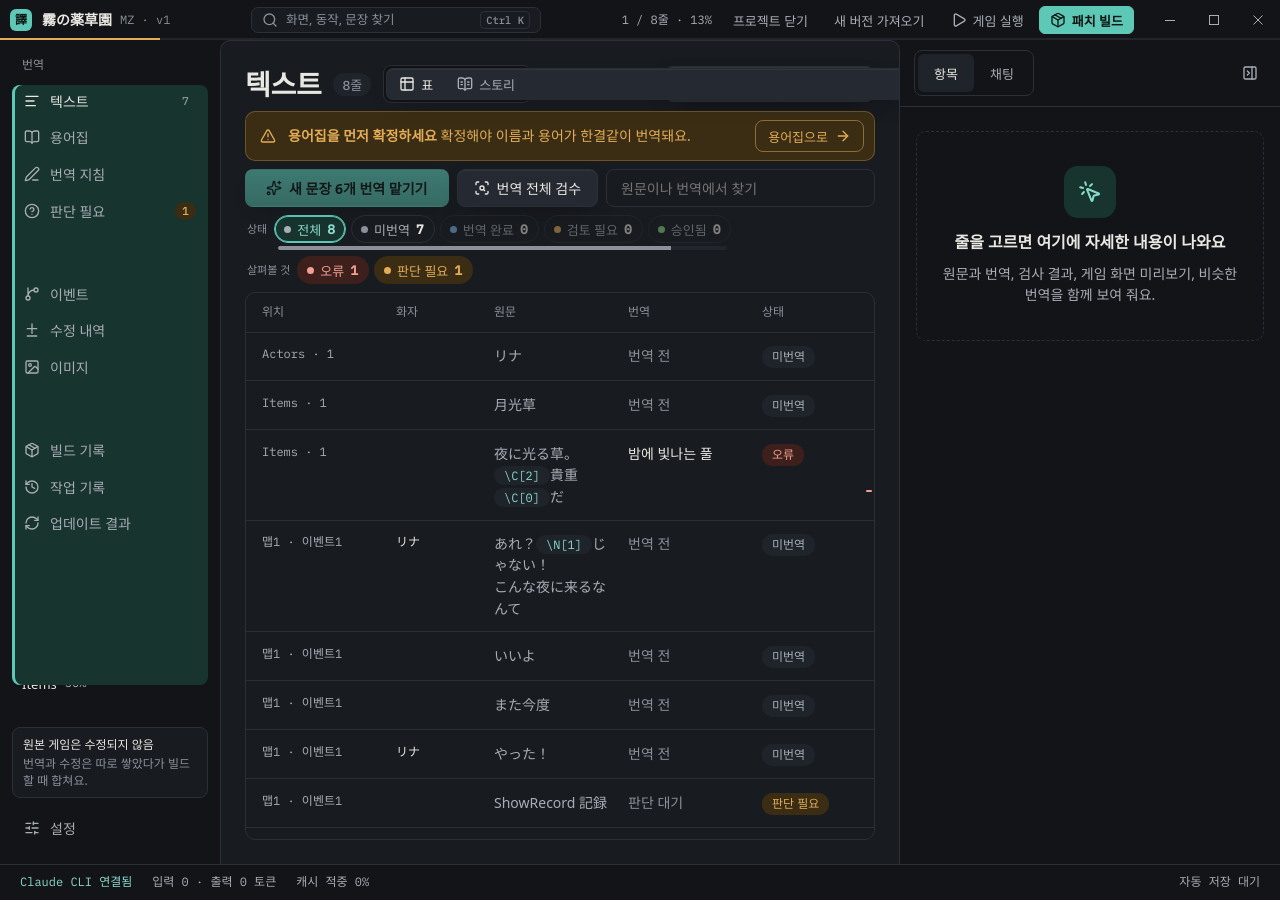
Test case: 폴더를 고르면 확인하고 버전 이름을 채운 뒤 가져온다
This screenshot has width=1280, height=900.
Expected: the text "霧の薬草園" is shown, [42,9,112,31]
What coordinates should you click on to do the following:
click the button "새 버전 가져오기"
I would click on:
 (879, 20)
Its box is [823,6,936,34].
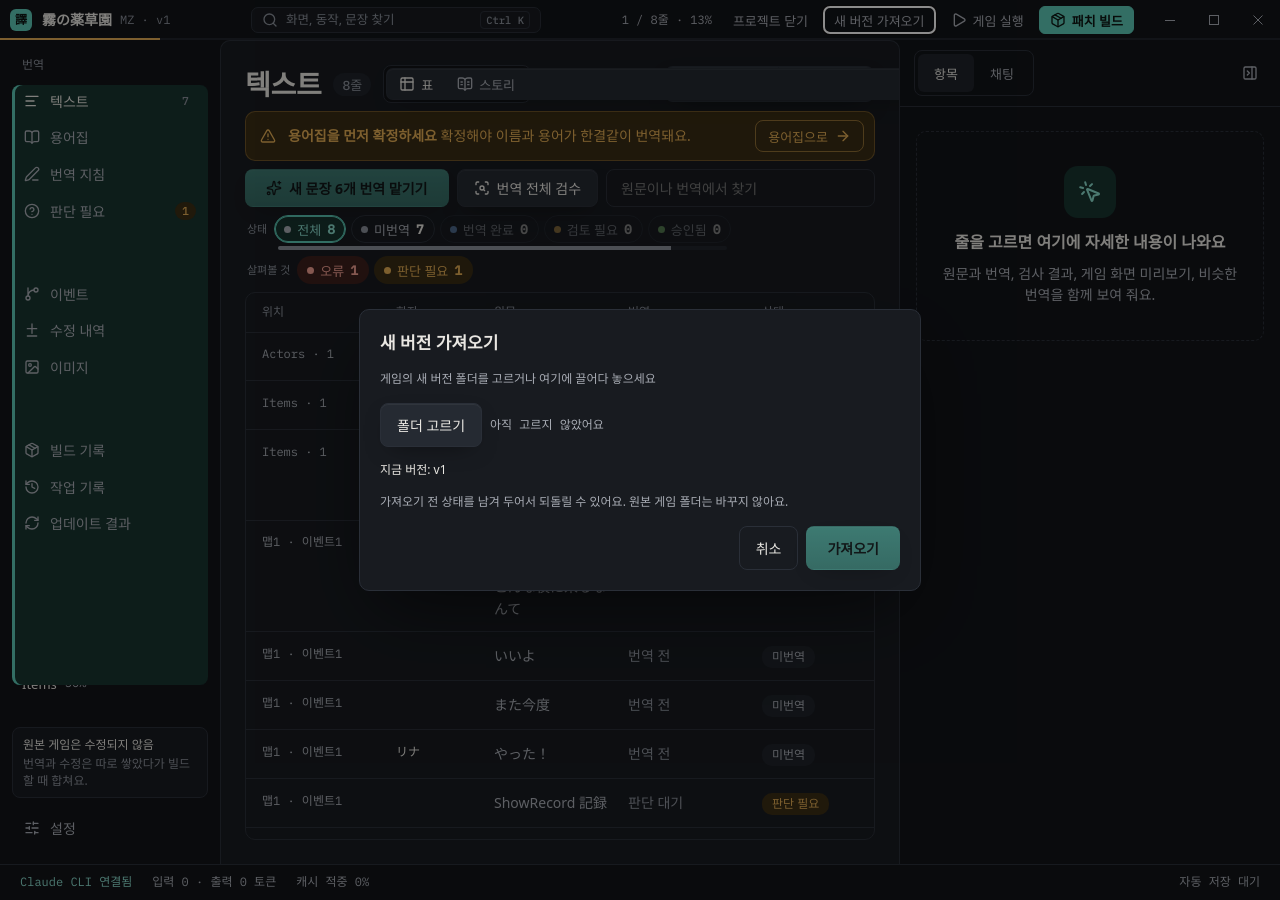
Now the text "게임의 새 버전 폴더를 고르거나 여기에 끌어다 놓으세요" is shown, box [380,370,656,387]
Now the text "지금 버전: v1" is shown, box [380,461,447,478]
Now the button "가져오기" is disabled, box [806,526,900,570]
What coordinates should you click on to do the following:
click the button "폴더 고르기"
I would click on:
 (431, 425)
Its box is [380,403,482,447].
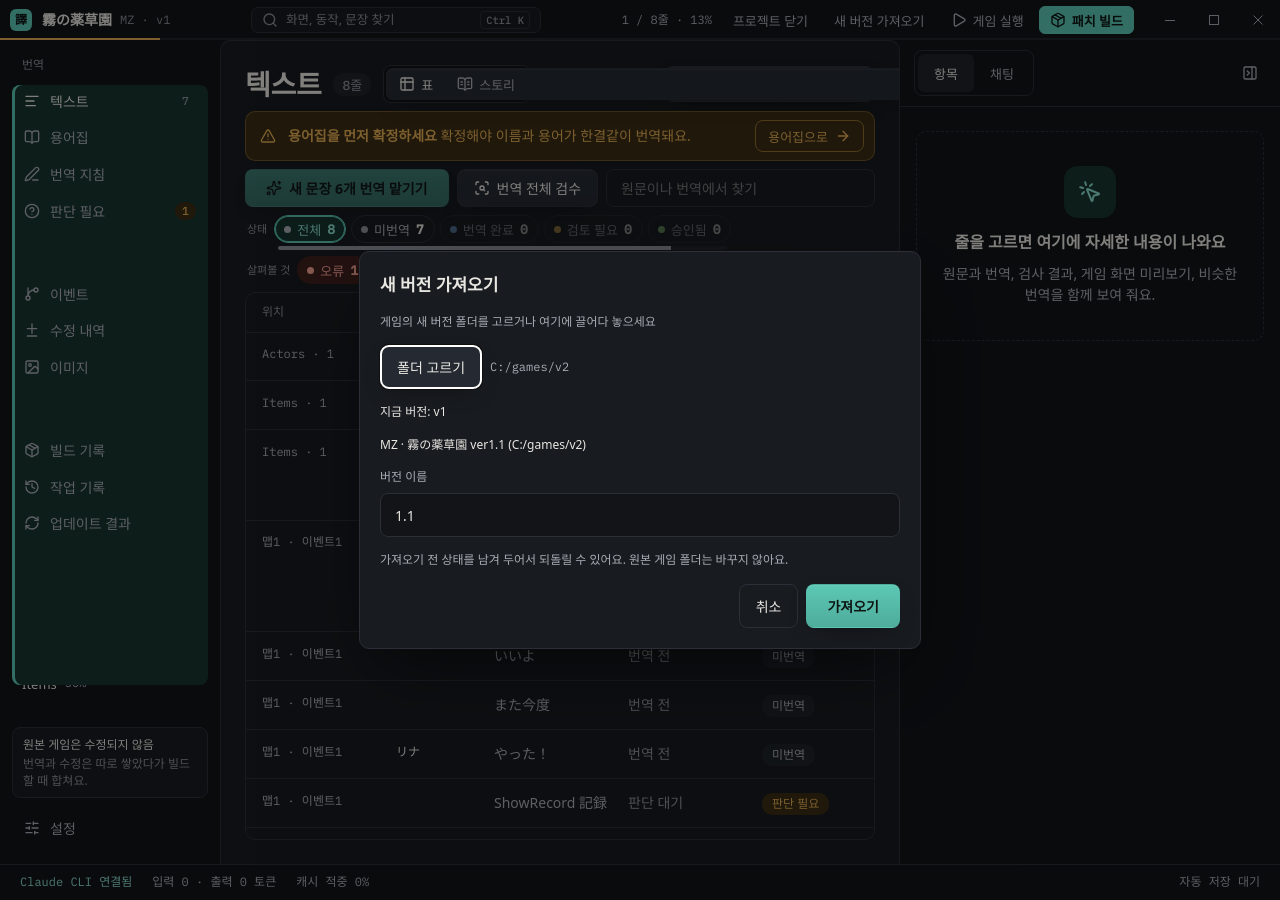
Now the text "가져오기 전 상태를 남겨 두어서 되돌릴 수 있어요. 원본 게임 폴더는 바꾸지 않아요." is shown, box [380,551,788,568]
Now the field labelled "버전 이름" holds "1.1", box [380,493,900,537]
What coordinates should you click on to do the following:
click the button "가져오기"
I would click on:
 (853, 606)
Its box is [806,584,900,628].
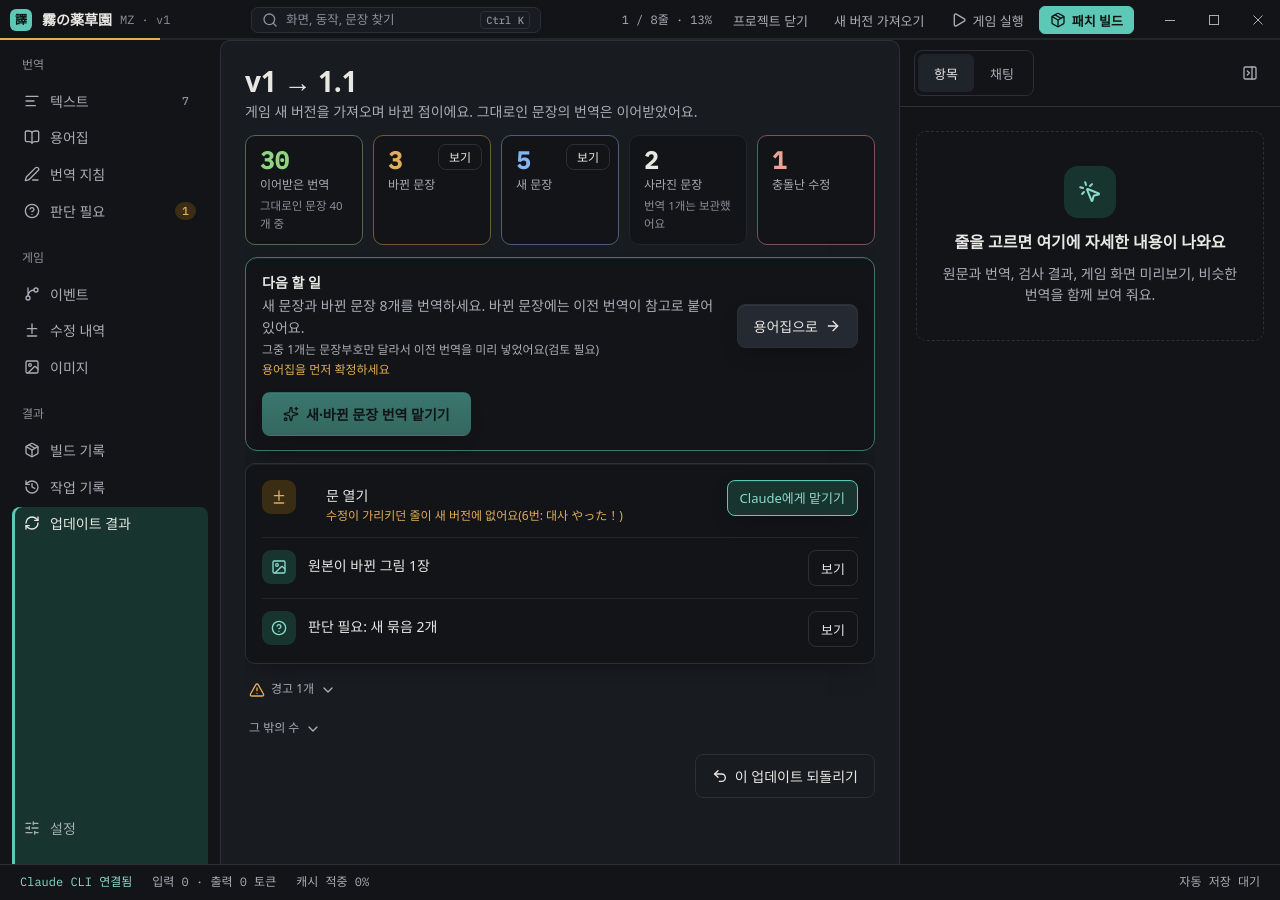
Now the heading "v1 → 1.1" is shown, box [245,65,357,97]
